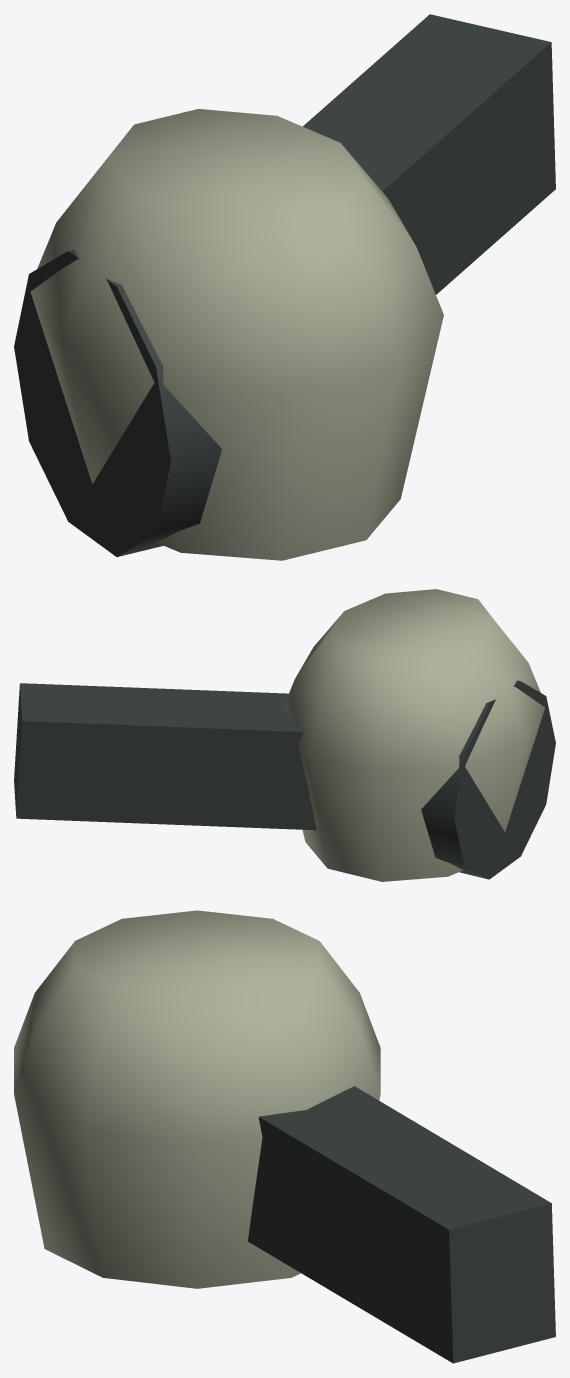
Rendered from scyther_arm_right.obj.
The picture shows the model from 3 angles, top to bottom: view 1: azimuth 30°, elevation 25°; view 2: azimuth 150°, elevation 25°; view 3: azimuth 270°, elevation 25°; orthographic projection. The views are drawn at different scales.
Parts seen in each view (by area): view 1: rigid_shell_002, rigid_shell_001, rigid_shell_000; view 2: rigid_shell_002, rigid_shell_001, rigid_shell_000; view 3: rigid_shell_002, rigid_shell_001.
Boxes of the visible parts, x1,y1,x2,y2 form: rigid_shell_002: (30, 109, 443, 560); rigid_shell_001: (303, 14, 555, 294); rigid_shell_000: (14, 249, 221, 556); rigid_shell_002: (283, 589, 544, 881); rigid_shell_001: (14, 683, 316, 830); rigid_shell_000: (421, 680, 555, 879); rigid_shell_002: (14, 910, 380, 1288); rigid_shell_001: (248, 1086, 555, 1363).
Size of the model in its own units: 0.4017 by 0.2008 by 0.3374.
